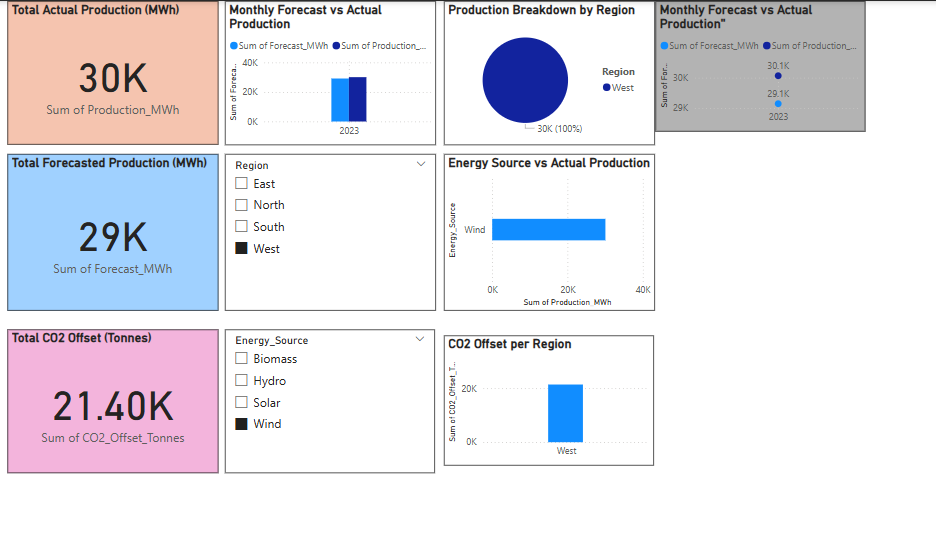

This screenshot's page, from the dashboard's own definition file:
{"tool":"powerbi","page":{"name":"Main page","canvas":[1280,720],"ordinal":0},"visuals":[{"type":"card","title":"Total Actual Production (MWh)","fields":{"Values":["Sum(renewable_energy_forecast.Production_MWh)"]},"box":[9.4,0,279.7,190.9],"z":0},{"type":"card","title":"Total Forecasted Production (MWh)","fields":{"Values":["Sum(renewable_energy_forecast.Forecast_MWh)"]},"box":[9.4,204.1,279.7,207.9],"z":1000},{"type":"card","title":"Total CO2 Offset (Tonnes)","fields":{"Values":["Sum(renewable_energy_forecast.CO2_Offset_Tonnes)"]},"box":[9.4,436.5,279.7,190.9],"z":2000},{"type":"clusteredColumnChart","title":"Monthly Forecast vs Actual Production","fields":{"Category":["renewable_energy_forecast.Month.Variation.Date Hierarchy.Year","renewable_energy_forecast.Month.Variation.Date Hierarchy.Quarter","renewable_energy_forecast.Month.Variation.Date Hierarchy.Month","renewable_energy_forecast.Month.Variation.Date Hierarchy.Day"],"Y":["Sum(renewable_energy_forecast.Forecast_MWh)","Sum(renewable_energy_forecast.Production_MWh)"]},"box":[299,0,280,191],"z":3000},{"type":"slicer","fields":{"Values":["renewable_energy_forecast.Region"]},"box":[299,204,280,208],"z":4000},{"type":"slicer","fields":{"Values":["renewable_energy_forecast.Energy_Source"]},"box":[299,435.6,278.3,190.7],"z":5000},{"type":"pieChart","title":"Production Breakdown by Region","fields":{"Y":["Sum(renewable_energy_forecast.Production_MWh)"],"Category":["renewable_energy_forecast.Region"]},"box":[589,0,280,191],"z":6000},{"type":"barChart","title":"Energy Source vs Actual Production","fields":{"Y":["Sum(renewable_energy_forecast.Production_MWh)"],"Category":["renewable_energy_forecast.Energy_Source"]},"box":[589,204,280,208],"z":7000},{"type":"clusteredColumnChart","title":"CO2 Offset per Region","fields":{"Category":["renewable_energy_forecast.Region"],"Y":["Sum(renewable_energy_forecast.CO2_Offset_Tonnes)"]},"box":[590.2,443.3,278.3,172.7],"z":8000},{"type":"lineChart","title":"Monthly Forecast vs Actual Production\"","fields":{"Category":["renewable_energy_forecast.Month.Variation.Date Hierarchy.Year","renewable_energy_forecast.Month.Variation.Date Hierarchy.Quarter","renewable_energy_forecast.Month.Variation.Date Hierarchy.Month","renewable_energy_forecast.Month.Variation.Date Hierarchy.Day"],"Y":["Sum(renewable_energy_forecast.Forecast_MWh)","Sum(renewable_energy_forecast.Production_MWh)"]},"box":[870.4,0,278.8,173.3],"z":9000}]}

Visuals, with their boxes in screenshot pixels (x1, y1, x2, y2), scaled from the page's 1280x720 canvas onto the 936x539 screenshot:
"Total Actual Production (MWh)" card: Rect(7, 0, 211, 143)
"Total Forecasted Production (MWh)" card: Rect(7, 153, 211, 308)
"Total CO2 Offset (Tonnes)" card: Rect(7, 327, 211, 470)
"Monthly Forecast vs Actual Production" clusteredColumnChart: Rect(219, 0, 423, 143)
slicer - renewable_energy_forecast.Region: Rect(219, 153, 423, 308)
slicer - renewable_energy_forecast.Energy_Source: Rect(219, 326, 422, 469)
"Production Breakdown by Region" pieChart: Rect(431, 0, 635, 143)
"Energy Source vs Actual Production" barChart: Rect(431, 153, 635, 308)
"CO2 Offset per Region" clusteredColumnChart: Rect(432, 332, 635, 461)
"Monthly Forecast vs Actual Production"" lineChart: Rect(636, 0, 840, 130)
